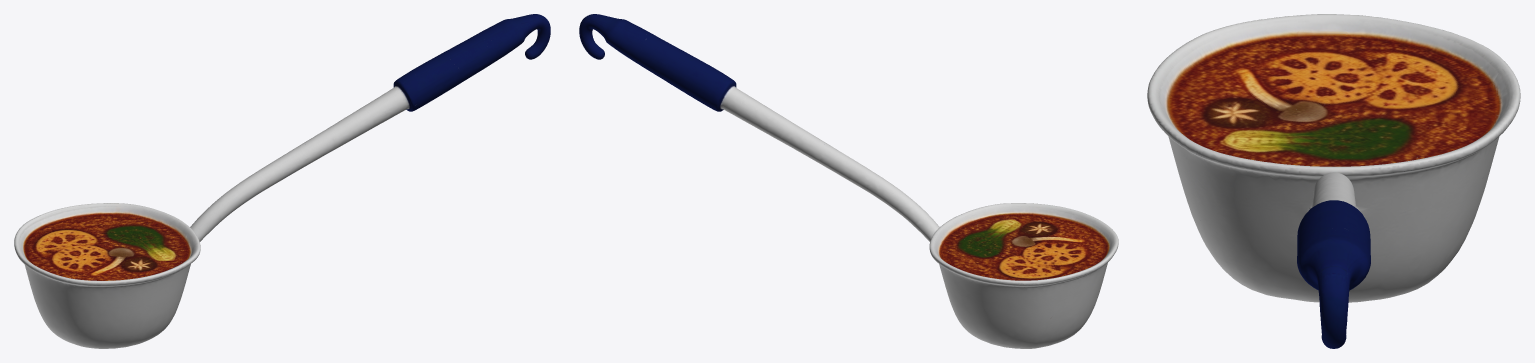
Rendered from Meshy_AI_마라탕_국물_국자_20261121_texture.fbx.
3 views of the same model, side by side, from view 1: azimuth 30°, elevation 25°; view 2: azimuth 150°, elevation 25°; view 3: azimuth 270°, elevation 25° (orthographic). The views are drawn at different scales.
Visible parts, largest first — view 1: Mesh_0; view 2: Mesh_0; view 3: Mesh_0.
Boxes of the visible parts, <box> form: Mesh_0: <box>14,14,550,348</box>; Mesh_0: <box>579,14,1118,348</box>; Mesh_0: <box>1147,14,1520,348</box>.
Size of the model in its own units: 190 by 74.03 by 58.6.
Materials: 1 (1 with a texture image).
